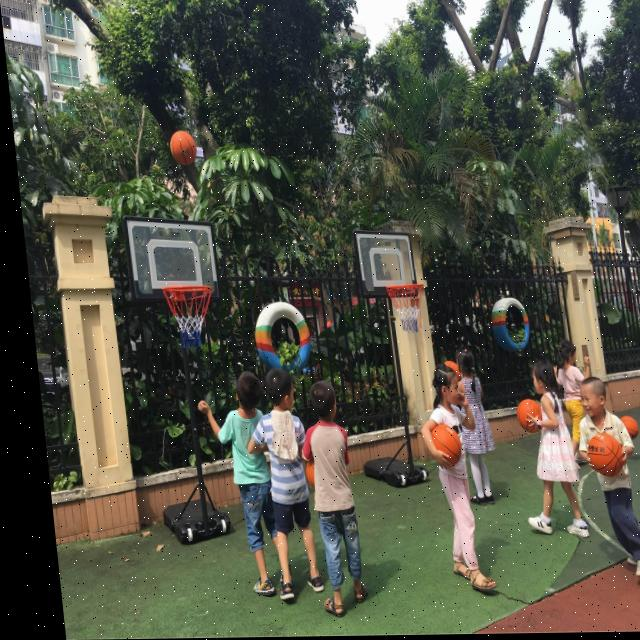basketball: (586, 431, 626, 478), (516, 399, 544, 434), (170, 131, 198, 165), (620, 414, 639, 442), (443, 359, 462, 381)
hoop: (163, 284, 219, 350), (387, 284, 429, 333)
